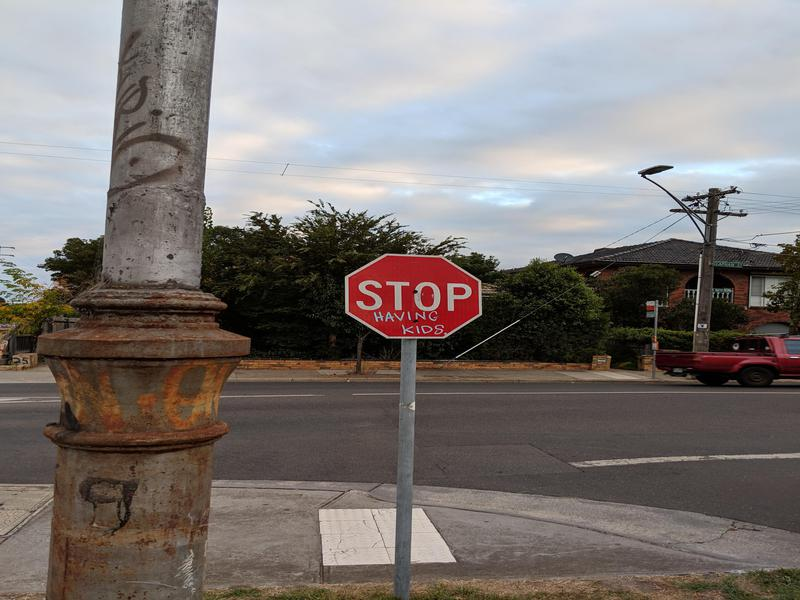stop: (341, 250, 497, 344)
